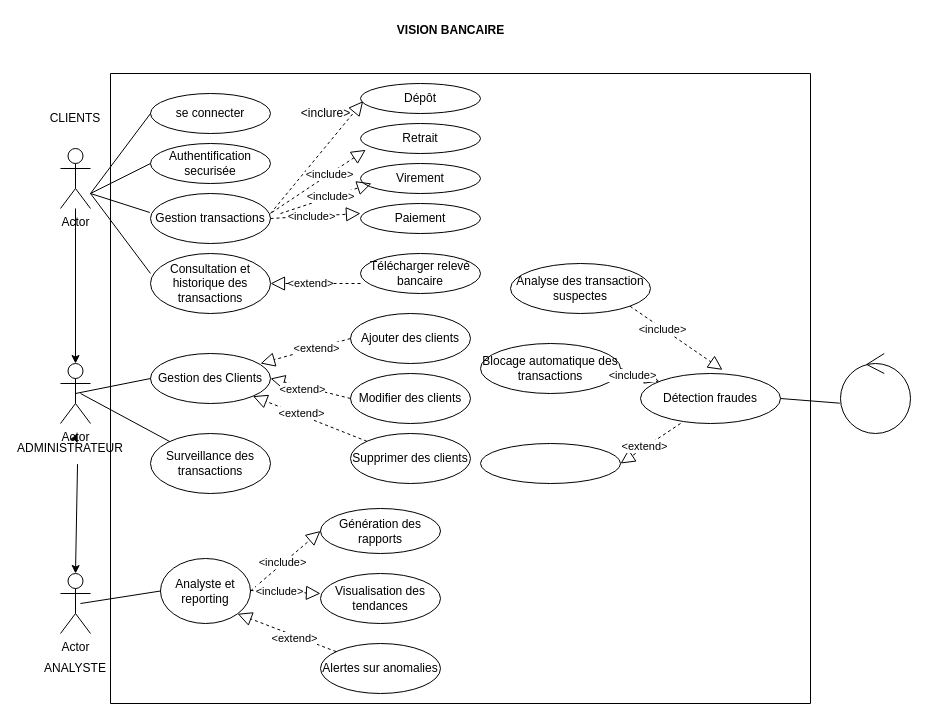
Image size: 928x721. Some labels were removed from this diagram. Here are the shapes that lost their labels. From the top down, the centre of each, then its label:
point (875, 393): Système Fraude
point (550, 463): Notification à l'administrateur
